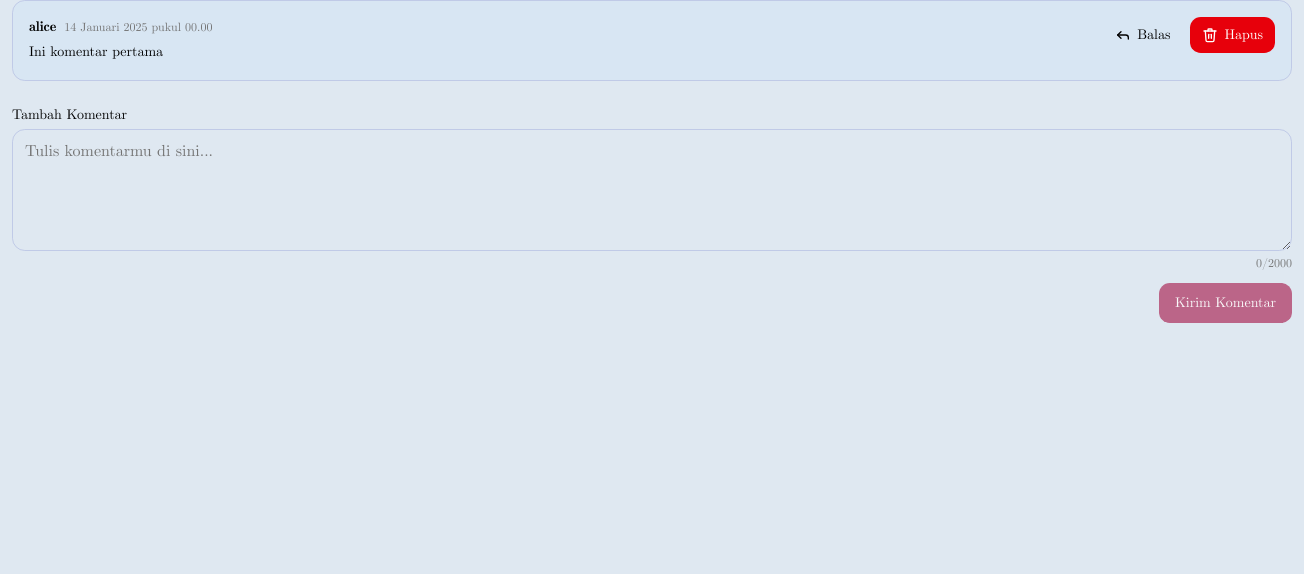
CommentList › klik "Balas" pada komentar level atas membuka form inline
The width and height of the screenshot is (1304, 574).
Note: Click the Reply button on the top-level comment
Click the button with test id "reply-button". click: [1143, 35]
box: [1103, 17, 1182, 53]
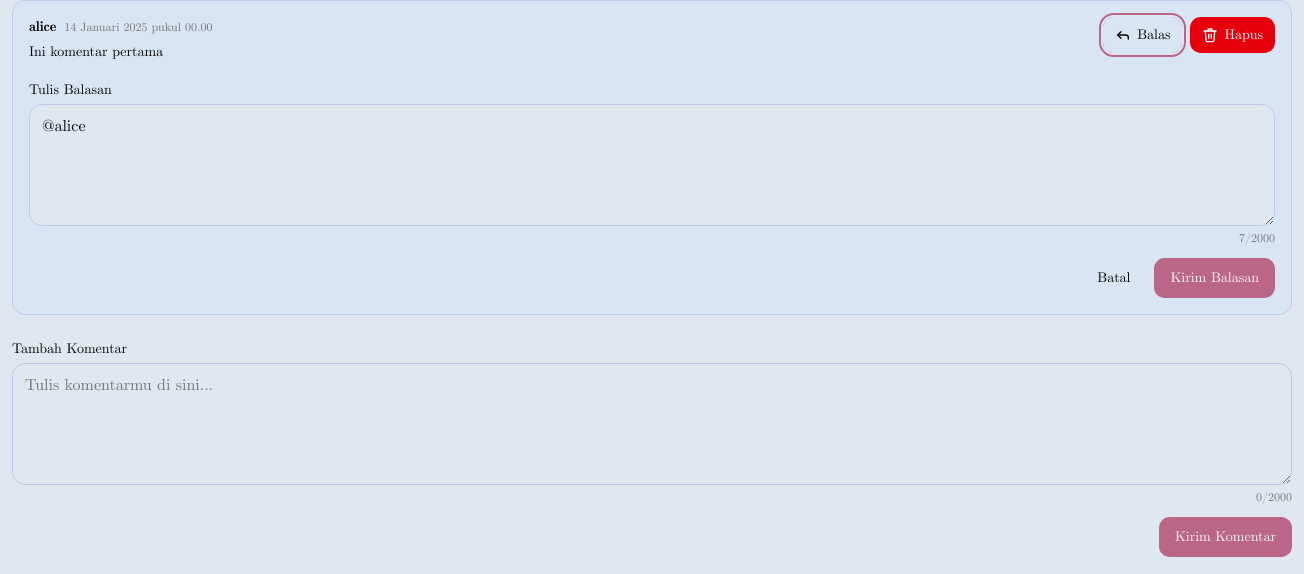
Now the element with test id "inline-reply-form" is shown, box [29, 80, 1275, 298]
Now the text box labelled "Tulis Balasan" holds "@alice ", box [29, 104, 1275, 226]
